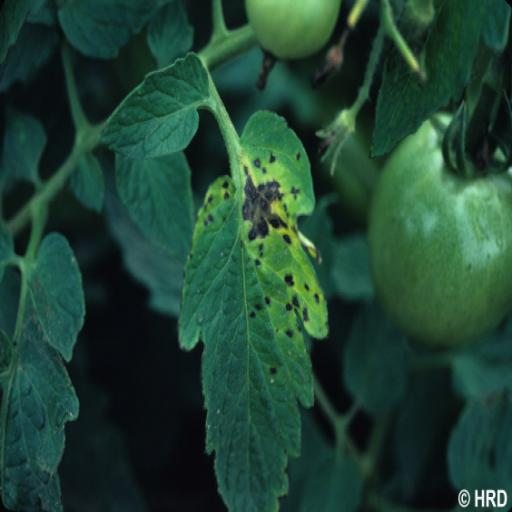Early Blight: (179, 108, 328, 512)
Healthy: (0, 224, 86, 512), (96, 53, 210, 159)
